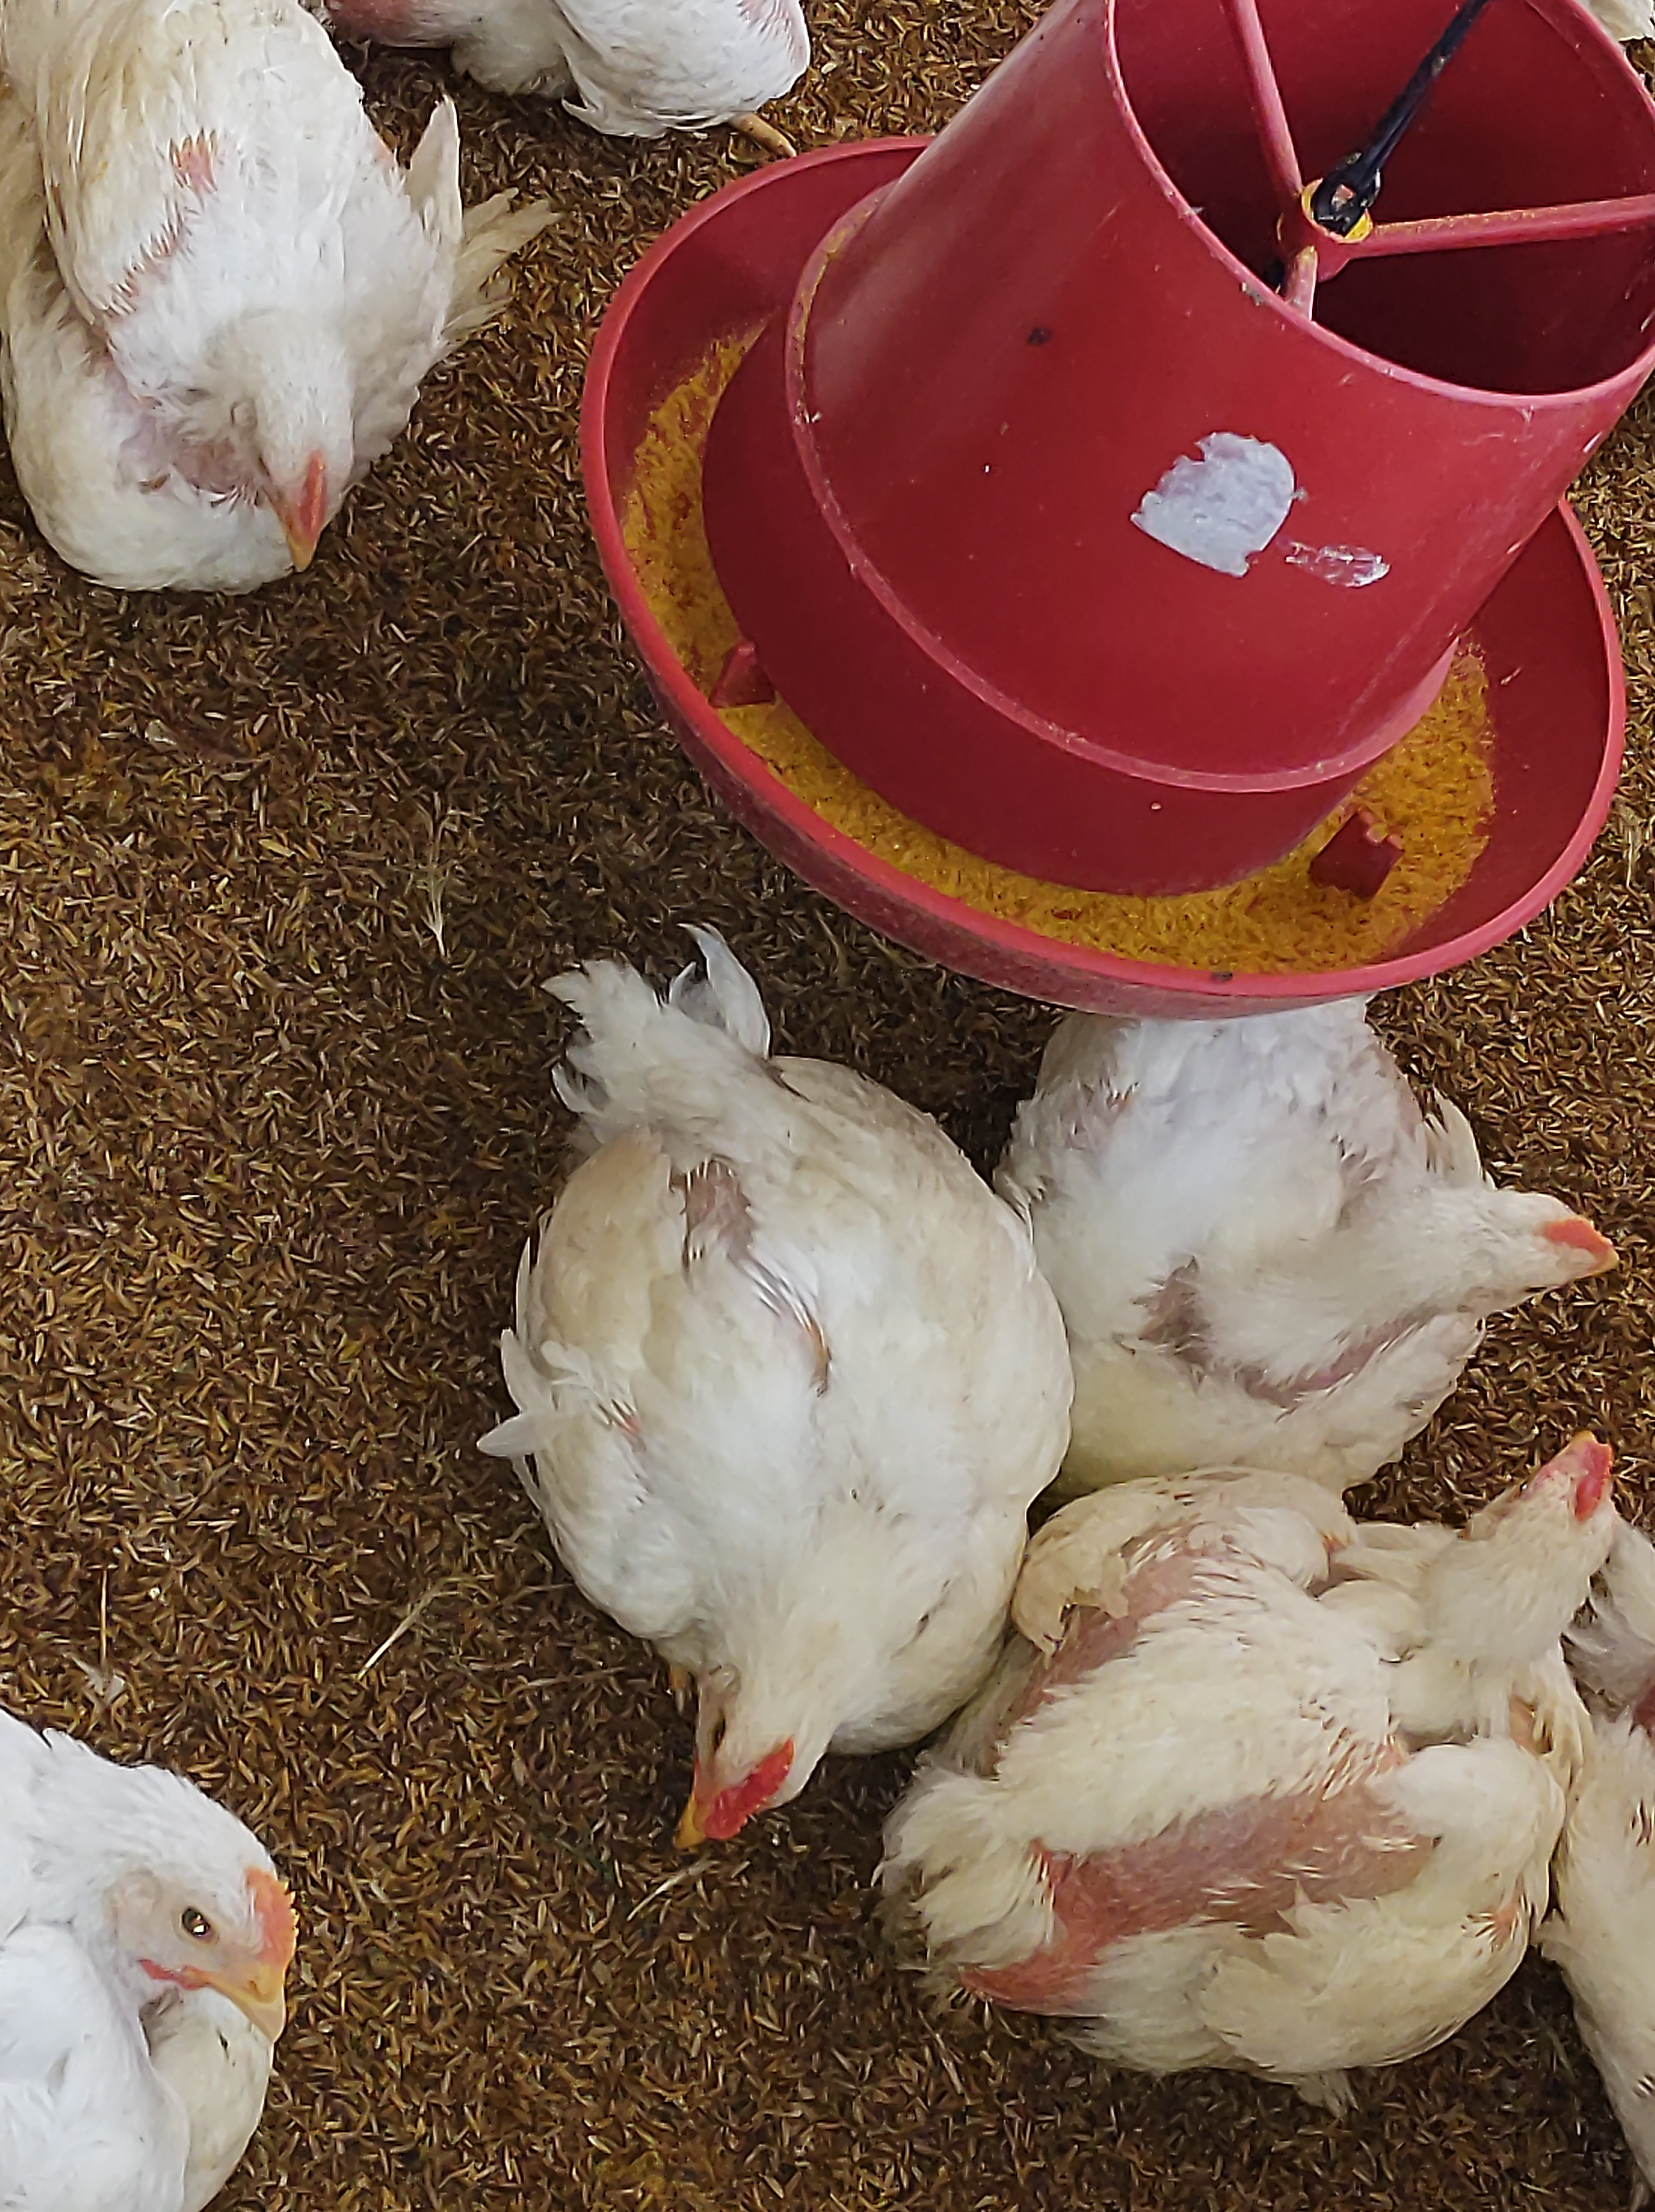Pollos: (454, 927, 1047, 1878), (925, 1412, 1648, 2101), (982, 989, 1603, 1529), (0, 0, 508, 635), (0, 1708, 318, 2212), (381, 0, 866, 179)
